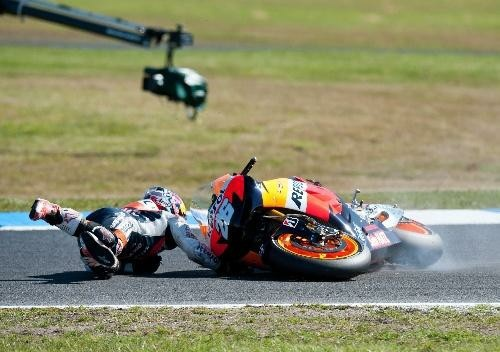falling: (32, 170, 255, 285)
